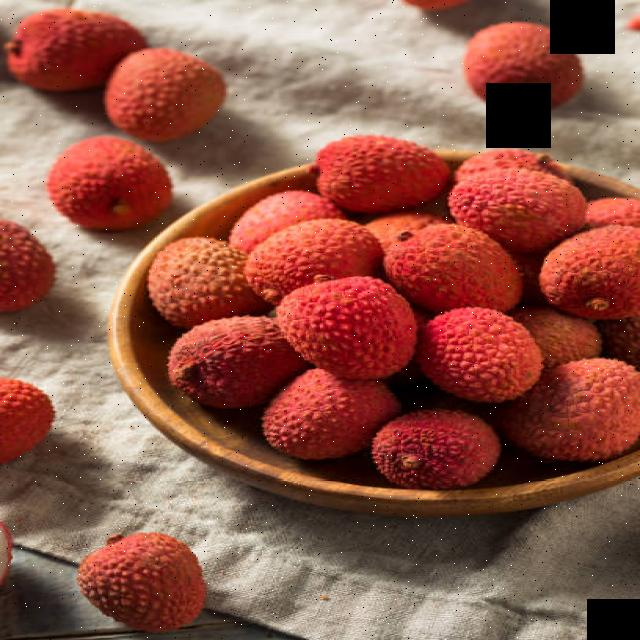lychee: (189, 177, 640, 461)
